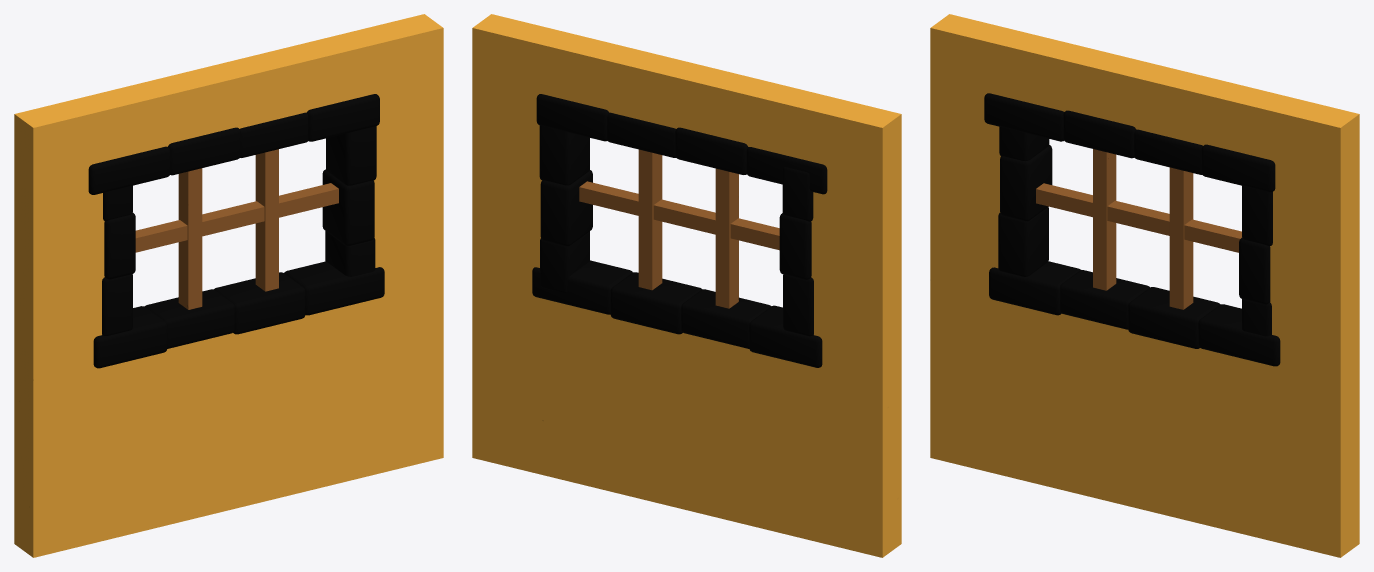
The model's file is Wall 5.fbx.
The picture shows the model from 3 angles, left to right: view 1: azimuth 30°, elevation 25°; view 2: azimuth 150°, elevation 25°; view 3: azimuth 330°, elevation 25°; orthographic projection.
Parts seen in each view (by area): view 1: Wall 5; view 2: Wall 5; view 3: Wall 5.
Boxes of the visible parts, x1=… form: Wall 5: x1=14, y1=14, x2=443, y2=557; Wall 5: x1=472, y1=14, x2=901, y2=557; Wall 5: x1=930, y1=14, x2=1359, y2=557.
Bounding box in the file's own units: 249 × 249 × 26.94.
Materials: 1 (1 with a texture image).
